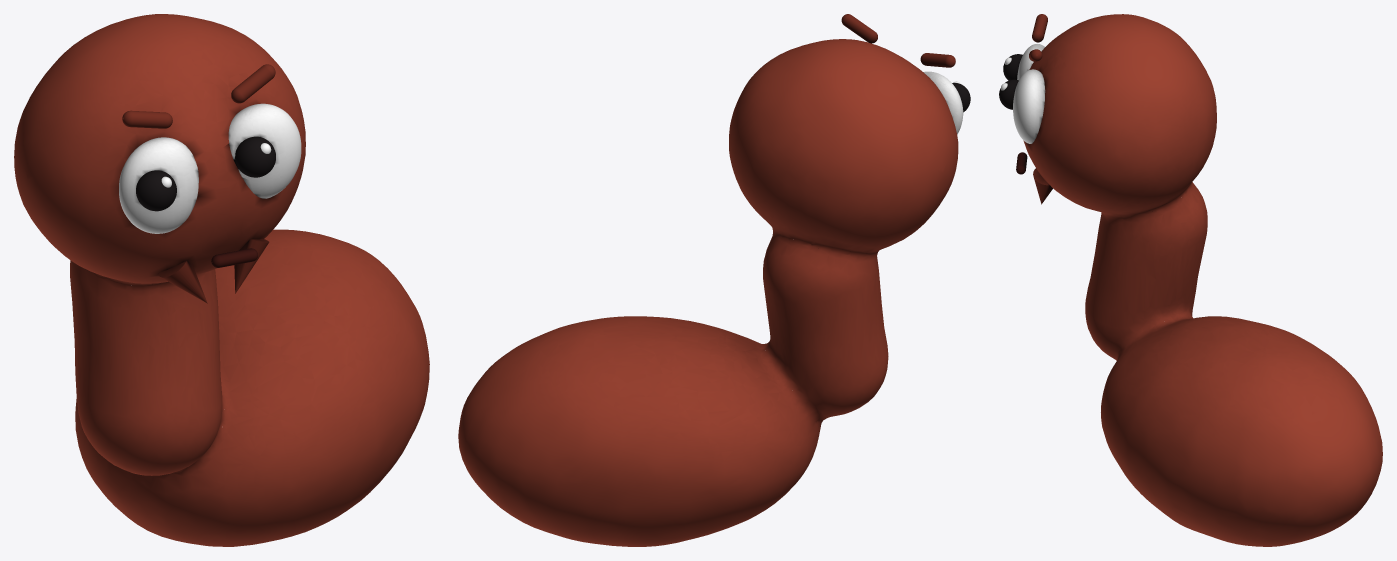
File: jag-vet-inte.glb
The picture shows the model from 3 angles, left to right: view 1: azimuth 30°, elevation 25°; view 2: azimuth 150°, elevation 25°; view 3: azimuth 270°, elevation 25°; orthographic projection. The views are drawn at different scales.
Visible parts, largest first — view 1: formiga__r0, formiga__r6, formiga__r11, formiga__r12, formiga__r7, formiga__r10, formiga__r3, formiga__r9, formiga__r4, formiga__r5; view 2: formiga__r0, formiga__r6; view 3: formiga__r0, formiga__r11.
Part boxes in pixels (box(x1,y1,x2,y2)): formiga__r0: box(14, 14, 429, 546); formiga__r6: box(119, 137, 198, 233); formiga__r11: box(228, 103, 301, 198); formiga__r12: box(235, 136, 275, 177); formiga__r7: box(136, 170, 176, 211); formiga__r10: box(158, 260, 207, 303); formiga__r3: box(231, 64, 275, 103); formiga__r9: box(122, 110, 172, 128); formiga__r4: box(234, 238, 269, 293); formiga__r5: box(211, 248, 257, 267); formiga__r0: box(458, 39, 958, 546); formiga__r6: box(923, 71, 963, 134); formiga__r0: box(1023, 14, 1382, 546); formiga__r11: box(1013, 69, 1045, 143).
Size of the model in its own units: 1.51 by 1.76 by 1.4.
